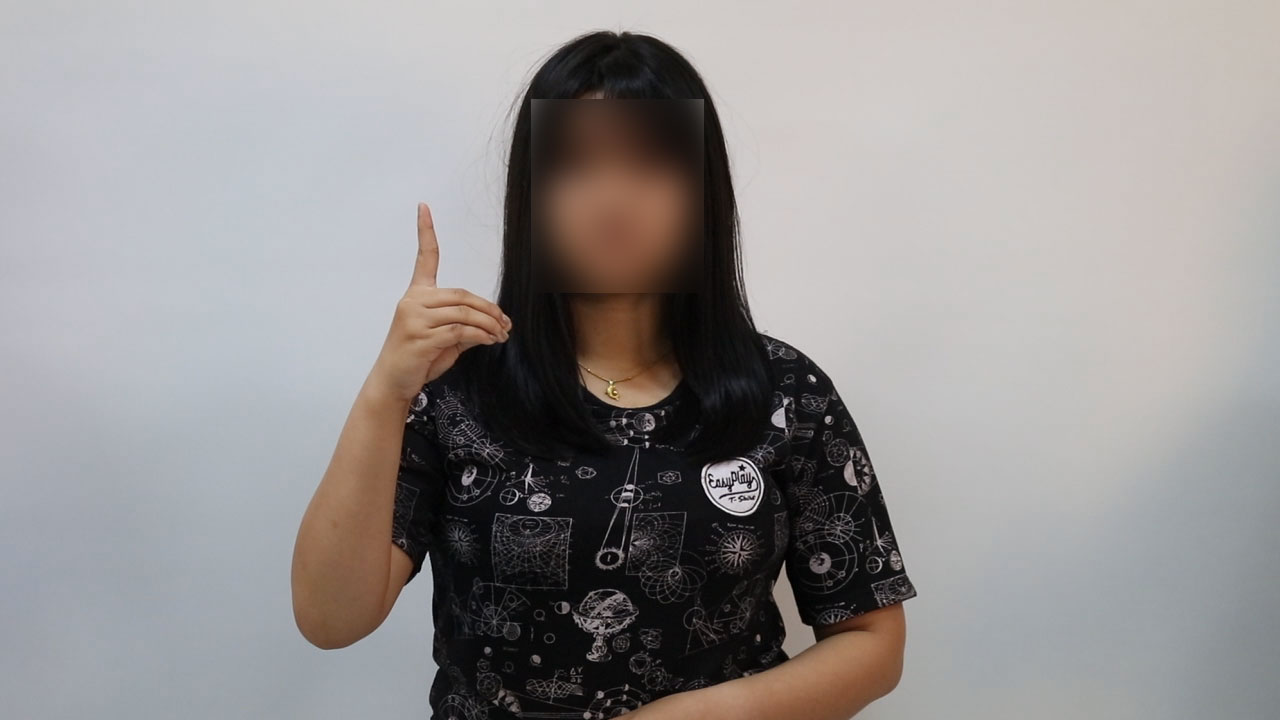dor: (360, 197, 521, 406)
